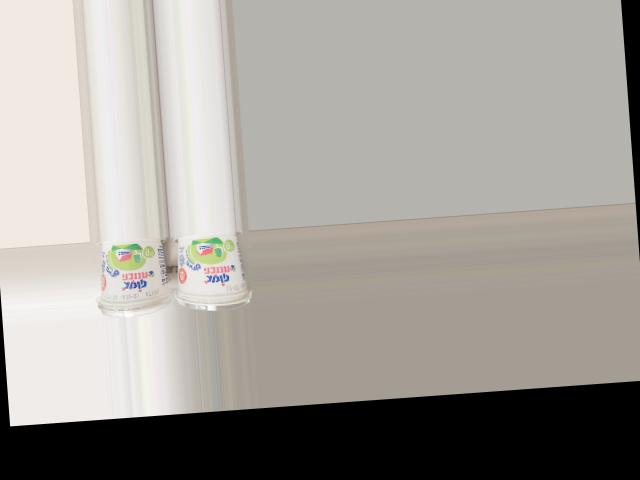cotage: (169, 230, 246, 311)
